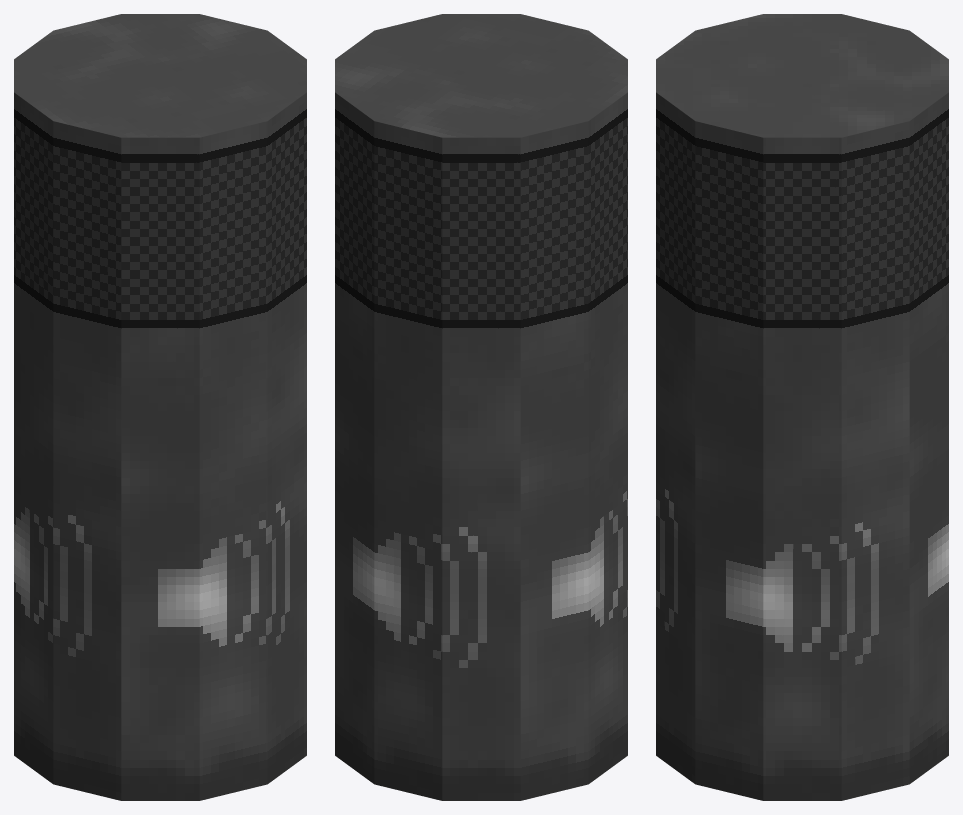
Rendered from audioLure.gltf.
The picture shows the model from 3 angles, left to right: view 1: azimuth 30°, elevation 25°; view 2: azimuth 150°, elevation 25°; view 3: azimuth 270°, elevation 25°; orthographic projection.
Visible parts, largest first — view 1: cylinder; view 2: cylinder; view 3: cylinder.
Boxes of the visible parts, x1,y1,x2,y2 form: cylinder: (14,14,306,800); cylinder: (335,14,627,800); cylinder: (656,14,948,800).
Bounding box in the file's own units: 1 × 2.5 × 1.
Materials: 1 (1 with a texture image).
